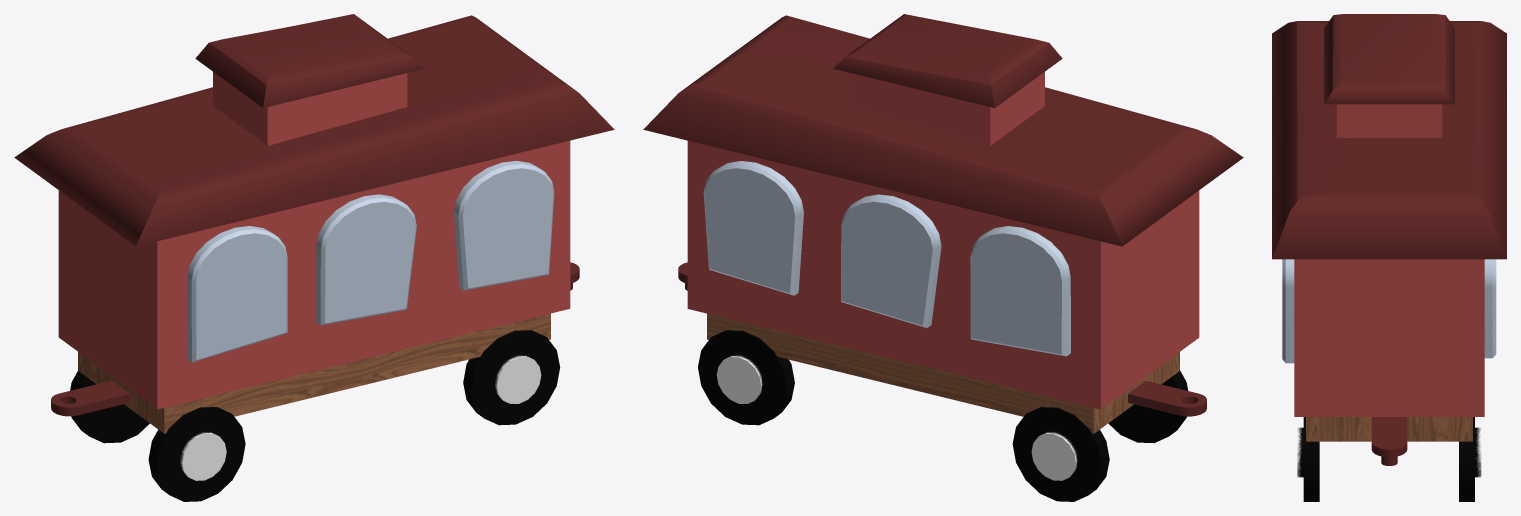
Rendered from Caboose.fbx.
3 renders of one model, left to right at view 1: azimuth 30°, elevation 25°; view 2: azimuth 150°, elevation 25°; view 3: azimuth 270°, elevation 25°, orthographic. The views are drawn at different scales.
Parts seen in each view (by area): view 1: Caboose_Roof1, Caboose_Walls1, Caboose_Bottom, Caboose_Wheel4, Caboose_Wheel1, Caboose_Wheel3; view 2: Caboose_Roof1, Caboose_Walls1, Caboose_Bottom, Caboose_Wheel3, Caboose_Wheel2, Caboose_Wheel4; view 3: Caboose_Roof1, Caboose_Walls1, Caboose_Bottom, Caboose_Wheel1, Caboose_Wheel2.
Part boxes in pixels (x1=…): Caboose_Roof1: x1=14, y1=14, x2=614, y2=416; Caboose_Walls1: x1=58, y1=72, x2=570, y2=409; Caboose_Bottom: x1=78, y1=161, x2=554, y2=433; Caboose_Wheel4: x1=148, y1=407, x2=245, y2=501; Caboose_Wheel1: x1=463, y1=330, x2=560, y2=425; Caboose_Wheel3: x1=70, y1=371, x2=149, y2=443; Caboose_Roof1: x1=643, y1=14, x2=1243, y2=416; Caboose_Walls1: x1=687, y1=72, x2=1199, y2=409; Caboose_Bottom: x1=703, y1=161, x2=1179, y2=433; Caboose_Wheel3: x1=1012, y1=407, x2=1109, y2=501; Caboose_Wheel2: x1=698, y1=330, x2=794, y2=425; Caboose_Wheel4: x1=1108, y1=370, x2=1188, y2=443; Caboose_Roof1: x1=1272, y1=14, x2=1506, y2=465; Caboose_Walls1: x1=1294, y1=104, x2=1484, y2=416; Caboose_Bottom: x1=1282, y1=259, x2=1496, y2=441; Caboose_Wheel1: x1=1297, y1=417, x2=1319, y2=501; Caboose_Wheel2: x1=1459, y1=417, x2=1481, y2=501.
Size of the model in its own units: 9.45 by 6.73 by 3.8.
